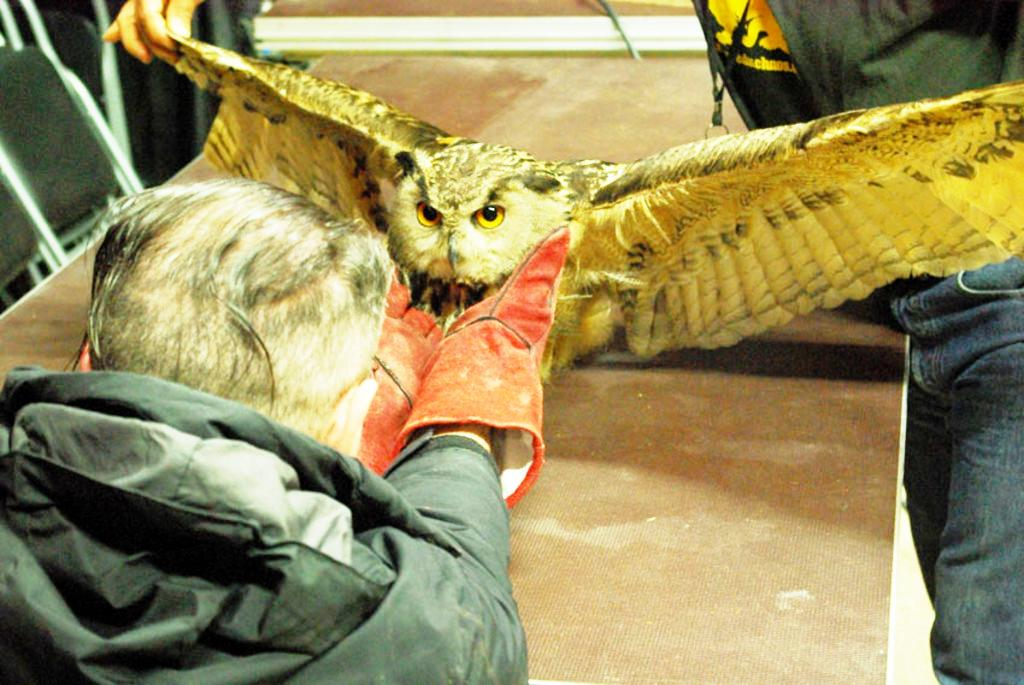Owl: (165, 18, 1023, 394)
